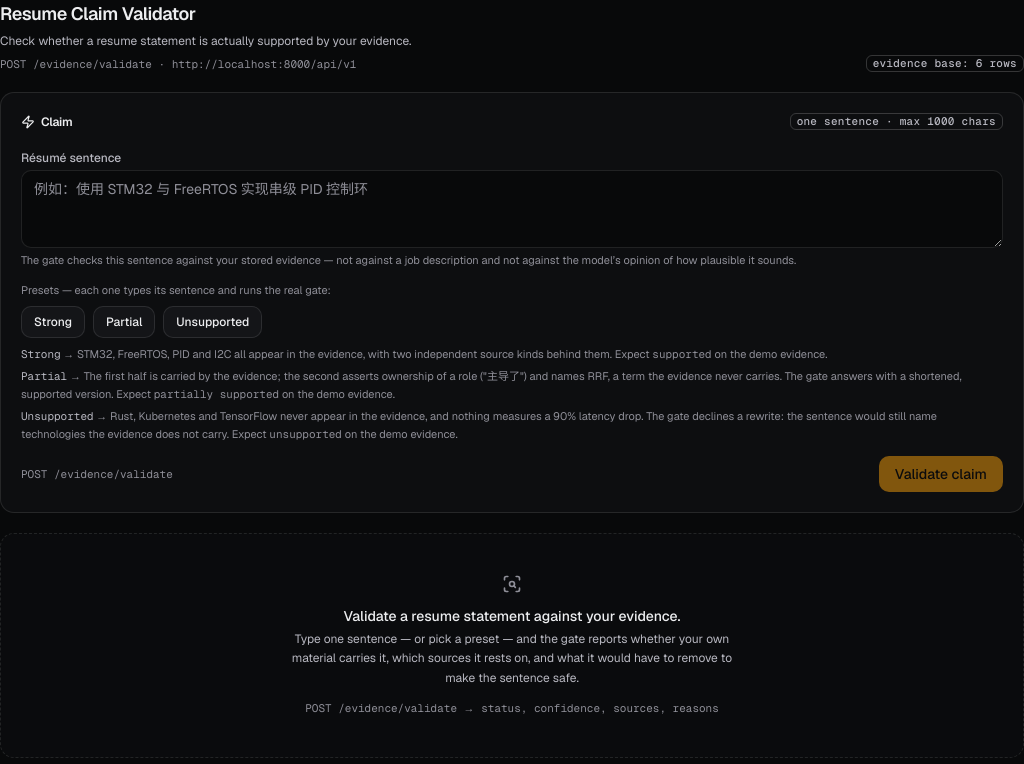
Test: the claim validator page › states the partially_supported verdict in its own words
Type "使用 STM32 与 FreeRTOS 实现串级 PID 控制环" into the text box labelled "Résumé sentence" at (512, 209), box [21,170,1003,248]
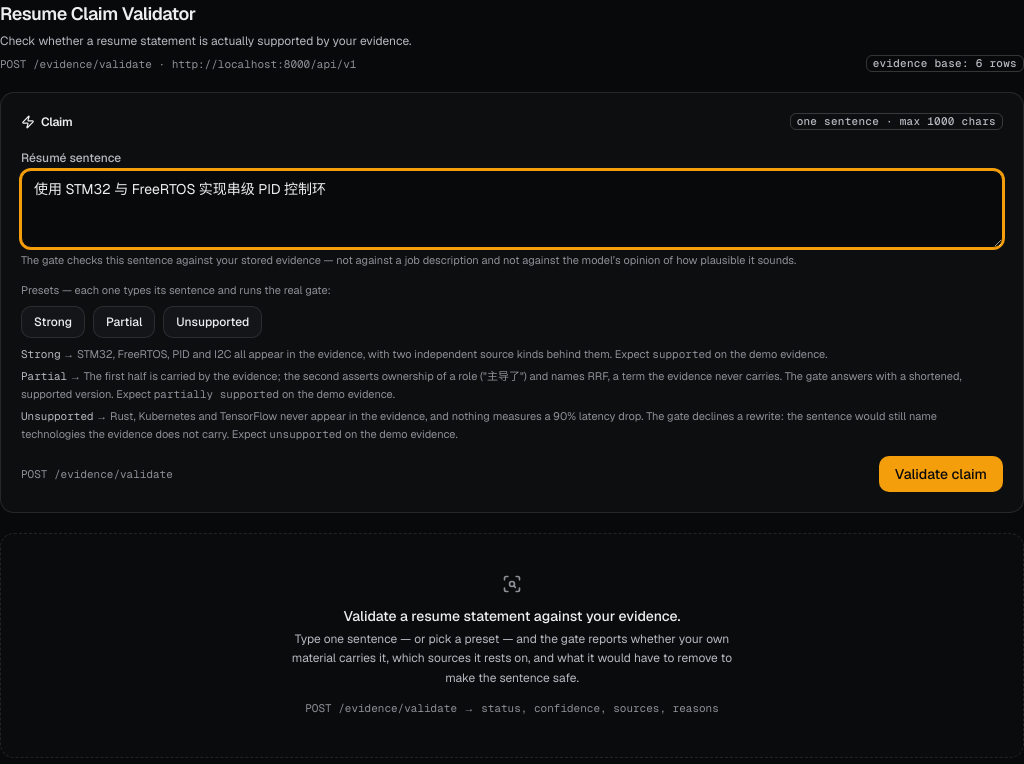
Click the button with test id "validate-claim" at (941, 474), box [879,456,1003,492]
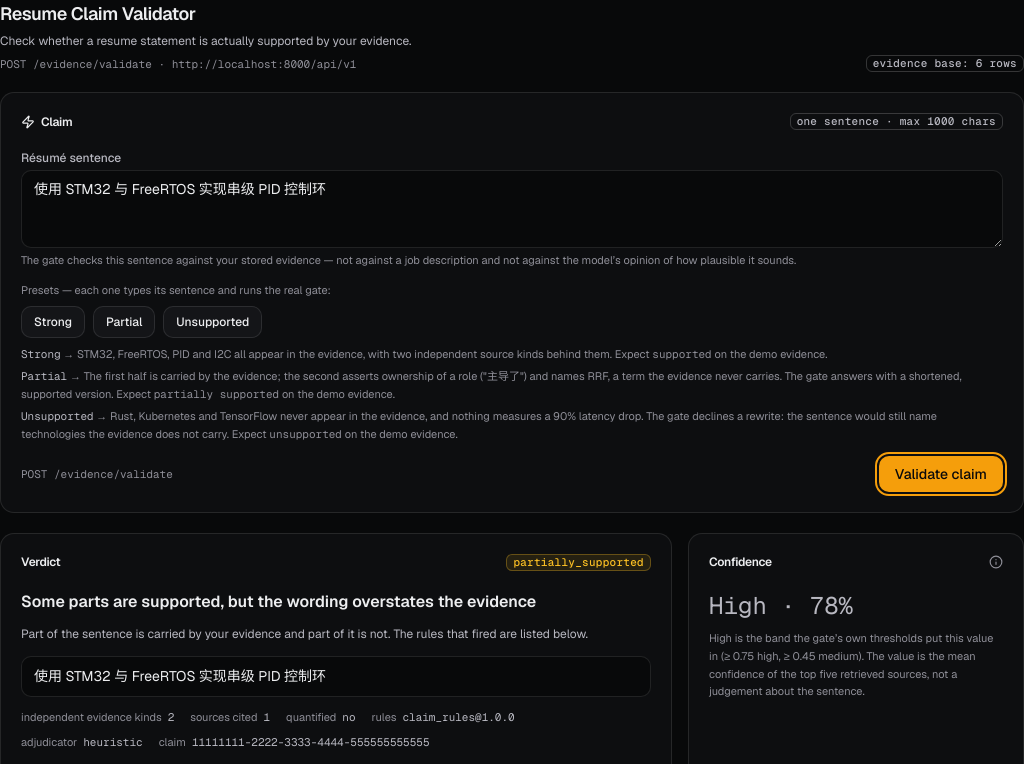
Expected: the text with test id "verdict-label" reads "Some parts are supported, but the wording overstates the evidence", [21,591,536,612]
Expected: the text with test id "verdict-badge" reads "partially_supported", [513,555,644,569]
Expected: the text with test id "confidence" reads "High · 78%", [709,590,853,621]
